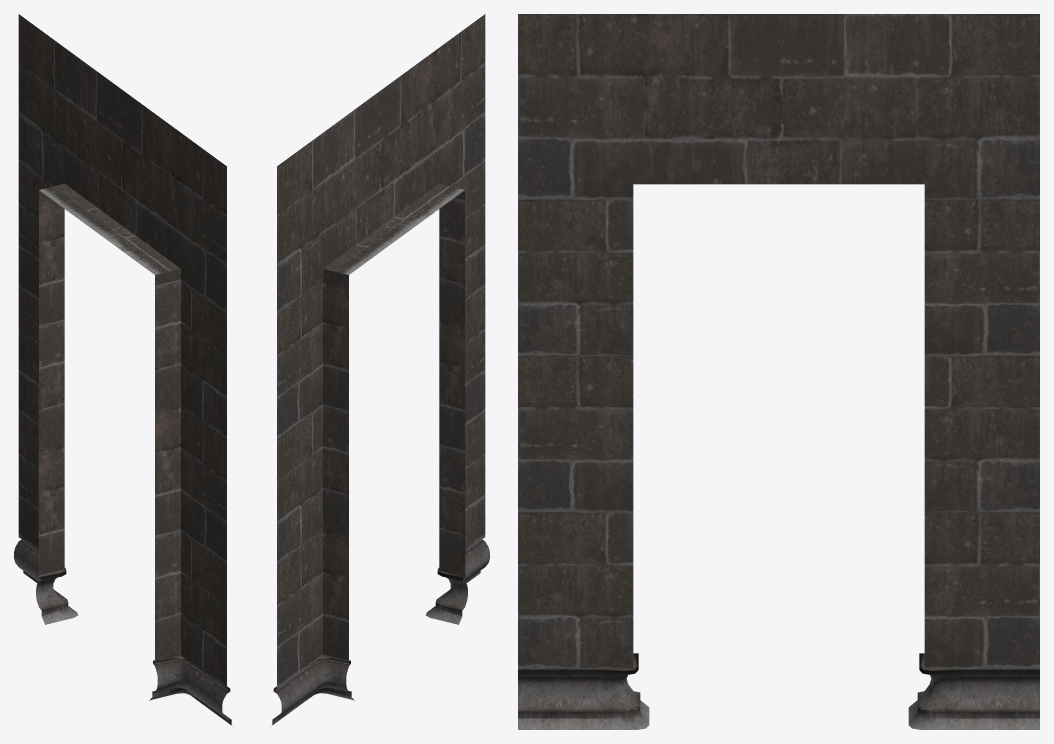
File: Psychiatric_Ward_Basement_Lower_Wall_2m_Door.glb
3 views of the same model, side by side, from view 1: azimuth 30°, elevation 25°; view 2: azimuth 150°, elevation 25°; view 3: azimuth 270°, elevation 25° (orthographic). The views are drawn at different scales.
Parts seen in each view (by area): view 1: Psychiatric_Ward_Basement_Lower_Wall_2m_Door; view 2: Psychiatric_Ward_Basement_Lower_Wall_2m_Door; view 3: Psychiatric_Ward_Basement_Lower_Wall_2m_Door.
Part boxes in pixels (x1,y1,x2,y2): Psychiatric_Ward_Basement_Lower_Wall_2m_Door: (14,14,233,726); Psychiatric_Ward_Basement_Lower_Wall_2m_Door: (270,14,489,726); Psychiatric_Ward_Basement_Lower_Wall_2m_Door: (518,14,1039,729).
Size of the model in its own units: 0.2049 by 3 by 2.
Materials: 1 (1 with a texture image).
